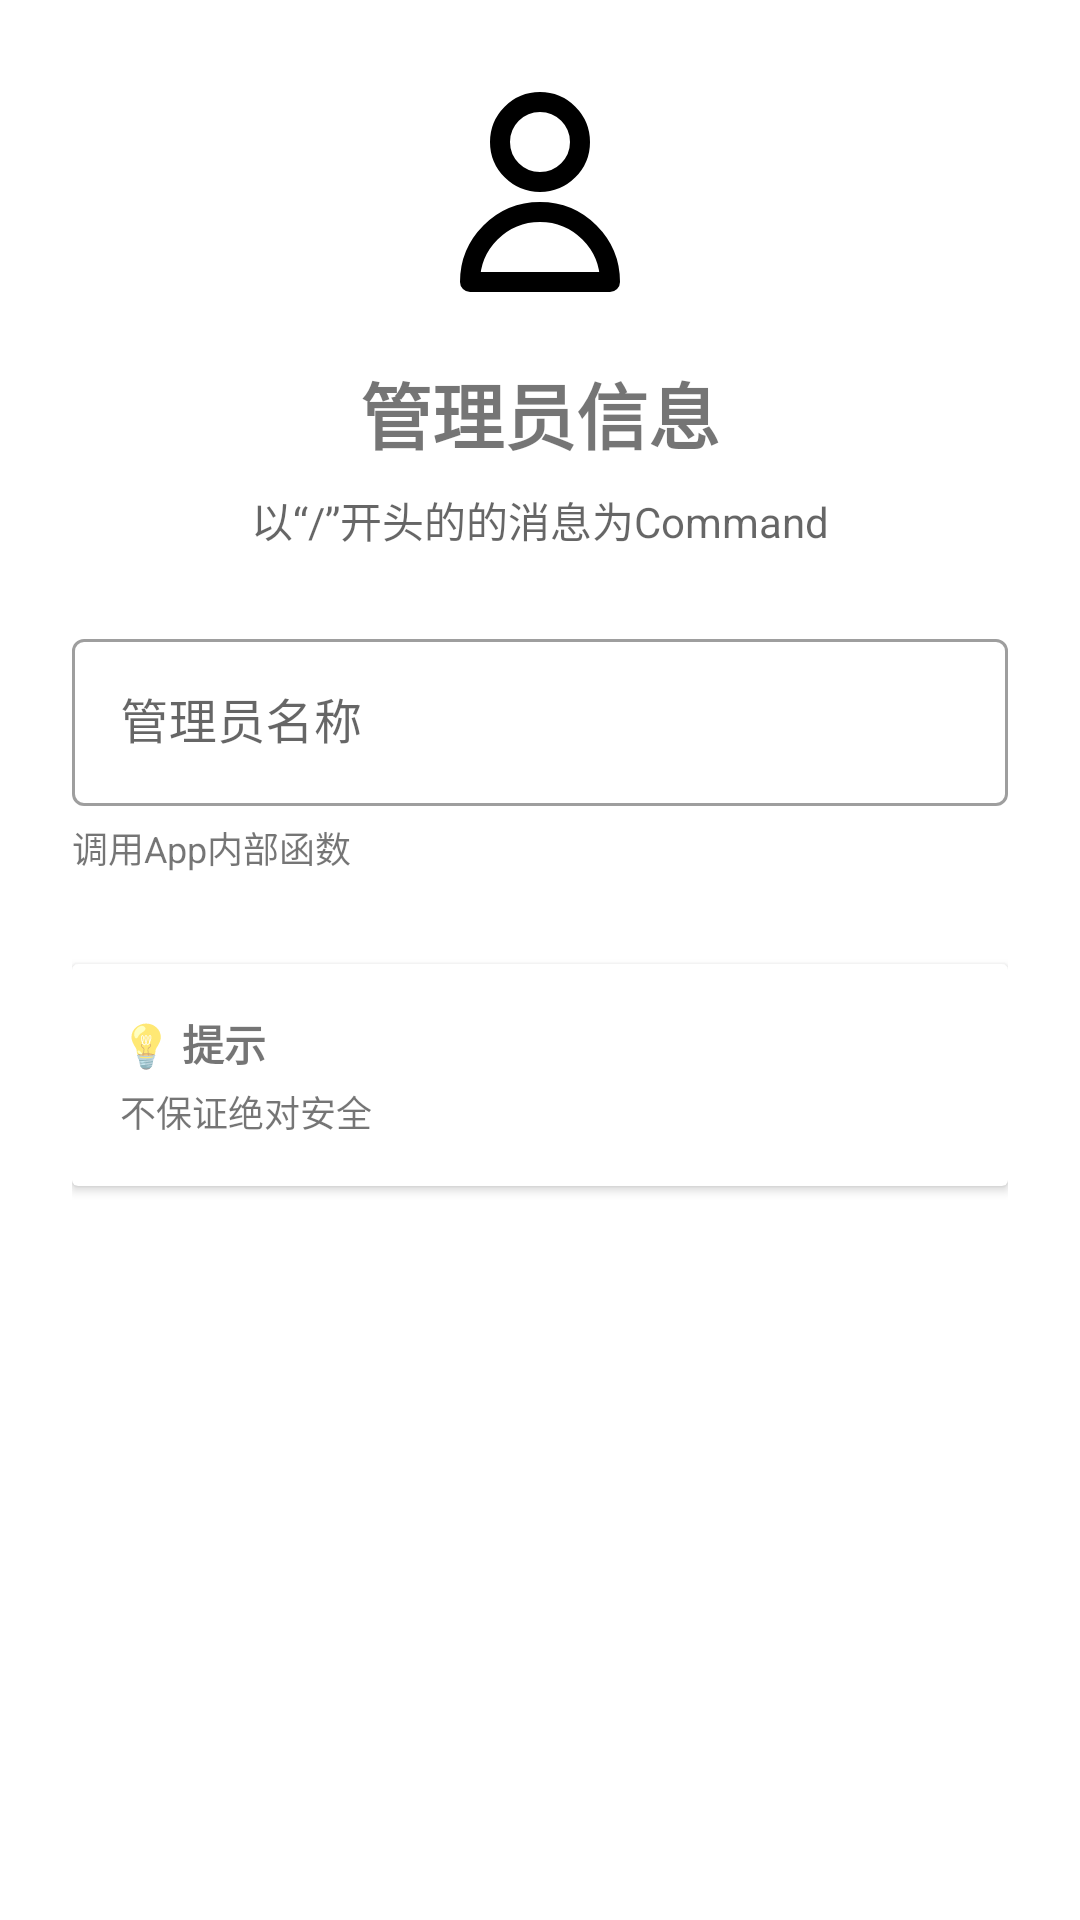

Where to tap for icons on this 1080px×1920px app screen, as (x=x, y=y):
user: (x=540, y=192)
